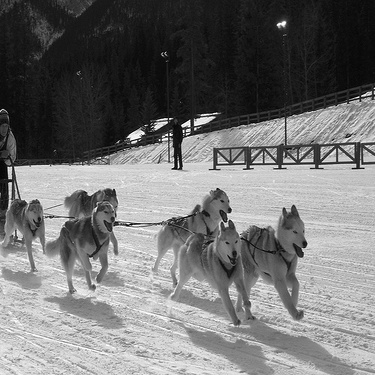dog: (223, 196, 312, 329), (158, 220, 257, 334), (35, 200, 123, 305), (153, 182, 241, 286), (62, 178, 129, 261), (4, 181, 54, 283)
